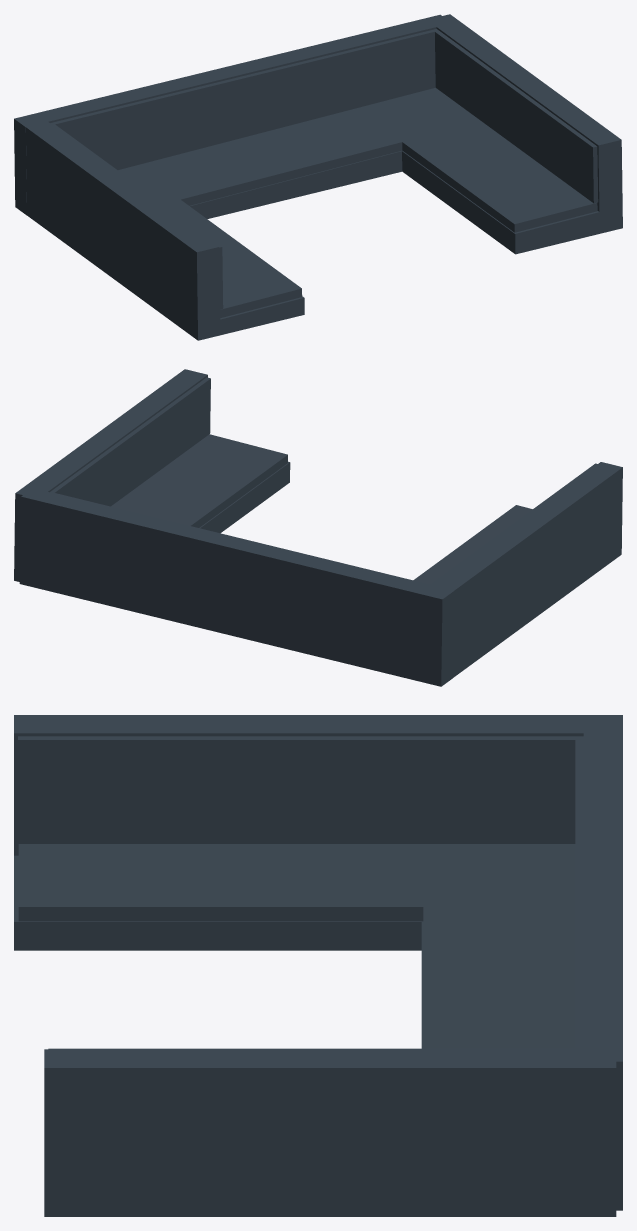
File: Couch1.fbx
The picture shows the model from 3 angles, top to bottom: view 1: azimuth 30°, elevation 25°; view 2: azimuth 150°, elevation 25°; view 3: azimuth 270°, elevation 25°; orthographic projection. The views are drawn at different scales.
Visible parts, largest first — view 1: couch_1; view 2: couch_1; view 3: couch_1.
Boxes of the visible parts, x1,y1,x2,y2 form: couch_1: (14, 14, 622, 340); couch_1: (14, 369, 622, 686); couch_1: (14, 715, 622, 1216).
Size of the model in its own units: 2279 by 444 by 1656.
